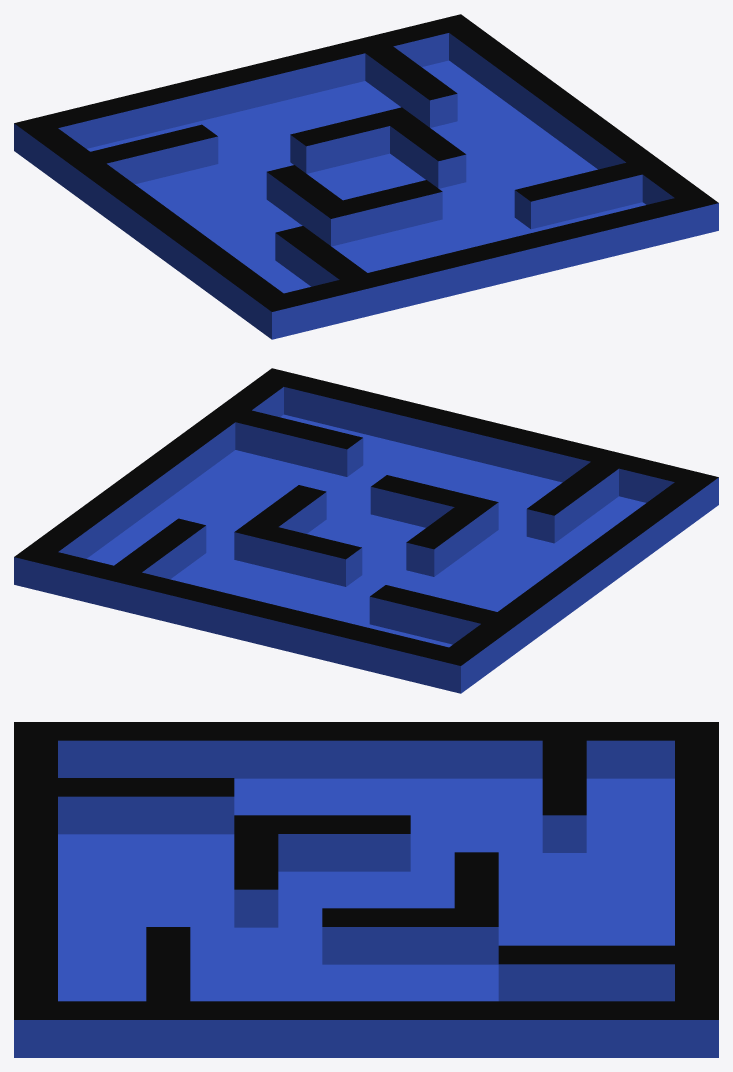
File: tanksmap.fbx
The picture shows the model from 3 angles, top to bottom: view 1: azimuth 30°, elevation 25°; view 2: azimuth 150°, elevation 25°; view 3: azimuth 270°, elevation 25°; orthographic projection. The views are drawn at different scales.
Parts seen in each view (by area): view 1: Plane; view 2: Plane; view 3: Plane.
Boxes of the visible parts, left/top/right/bottom form: Plane: left=14, top=14, right=718, bottom=339; Plane: left=14, top=368, right=718, bottom=693; Plane: left=14, top=722, right=718, bottom=1057.
Bounding box in the file's own units: 1689 × 100 × 1689.
